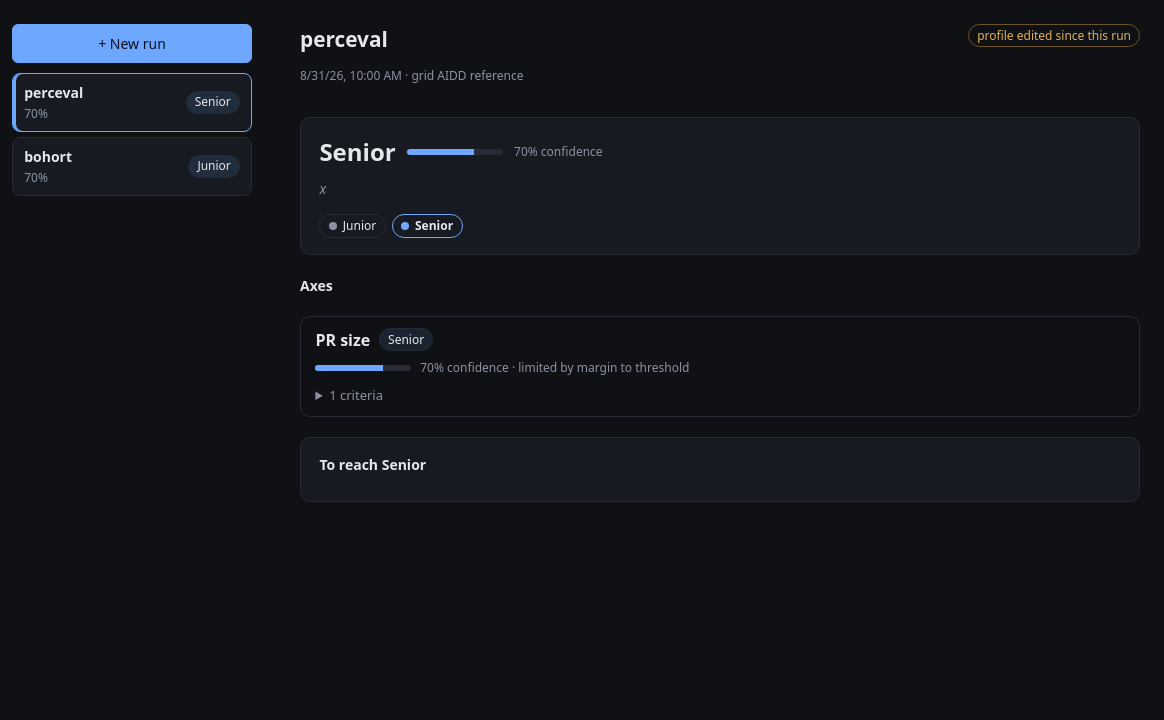
it: RunsPage › switches the fiche when another developer is picked in the rail
Expected: the heading "perceval" is shown, left=300, top=25, right=388, bottom=53
Click the button "bohort Junior 70%" at (132, 166), box left=12, top=137, right=252, bottom=196
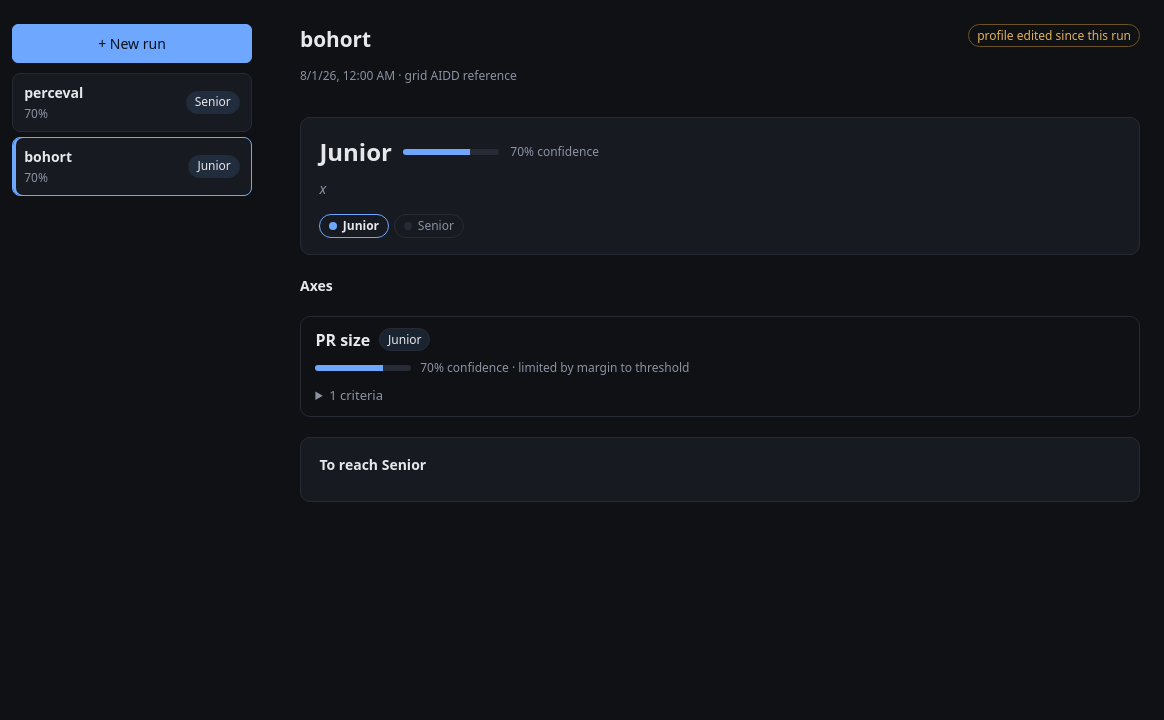
Expected: the 2nd text "Junior" is shown, left=188, top=155, right=240, bottom=178
Expected: the heading "bohort" is shown, left=300, top=25, right=371, bottom=53
